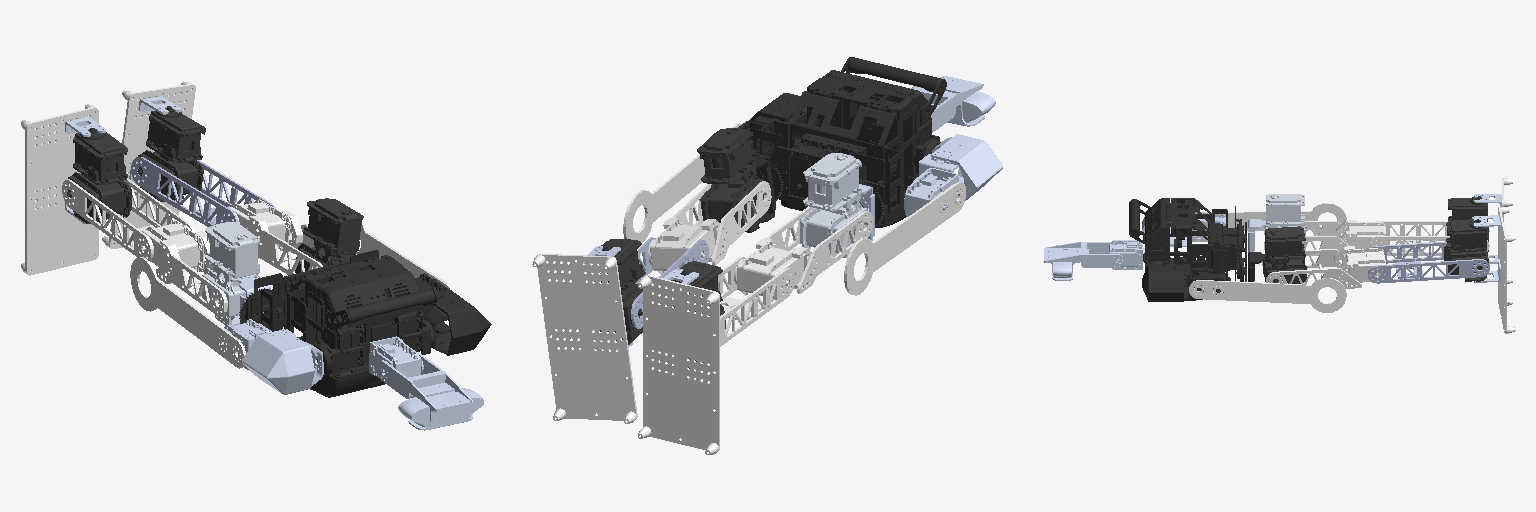
--- Facts derived from the render (not from the file) ---
The picture shows the robot from 3 angles, left to right: view 1: azimuth 30°, elevation 25°; view 2: azimuth 150°, elevation 25°; view 3: azimuth 270°, elevation 25°; orthographic projection.
Model zjudancerURDF with 21 links and 20 joints (18 revolute, 2 fixed), rooted at base_link, posed all joints at 0.
Links seen in each view (by area): view 1: base_link, r_sole, RShoulder, HeadPitch, RHipPitch, RAnklePitch, LAnklePitch, RHipRoll, LKnee, RHand, RKnee, LHipPitch (+7 smaller); view 2: base_link, l_sole, r_sole, RHipPitch, LHipPitch, RHipRoll, RShoulder, LHipRoll, RHand, RKnee, LHand, HeadPitch (+5 smaller); view 3: base_link, LHand, LKnee, LHipPitch, LShoulder, LHipRoll, HeadPitch, RHipPitch, LAnklePitch, RKnee, RHipRoll, l_sole (+3 smaller).
Boxes of the visible links, x1,y1,x2,y2 form: base_link: [239, 250, 437, 397]; r_sole: [21, 104, 98, 275]; RShoulder: [220, 319, 323, 394]; HeadPitch: [380, 353, 483, 430]; RHipPitch: [141, 220, 261, 316]; RAnklePitch: [67, 128, 131, 223]; LAnklePitch: [137, 106, 205, 201]; RHipRoll: [202, 222, 259, 325]; LKnee: [131, 157, 275, 226]; RHand: [130, 257, 245, 368]; RKnee: [62, 178, 195, 261]; LHipPitch: [226, 199, 356, 274]; base_link: [752, 57, 946, 227]; l_sole: [532, 254, 637, 423]; r_sole: [638, 275, 719, 454]; RHipPitch: [734, 206, 872, 301]; LHipPitch: [648, 181, 771, 274]; RHipRoll: [800, 153, 866, 257]; RShoulder: [904, 134, 1002, 216]; LHipRoll: [697, 128, 763, 230]; RHand: [844, 182, 965, 295]; RKnee: [715, 257, 794, 346]; LHand: [623, 123, 741, 242]; HeadPitch: [911, 76, 995, 132]; base_link: [1129, 198, 1246, 300]; LHand: [1189, 278, 1346, 312]; LKnee: [1367, 242, 1489, 283]; LHipPitch: [1262, 246, 1386, 288]; LShoulder: [1142, 264, 1225, 301]; LHipRoll: [1263, 226, 1306, 283]; HeadPitch: [1044, 242, 1120, 280]; RHipPitch: [1264, 220, 1385, 255]; LAnklePitch: [1444, 219, 1488, 281]; RKnee: [1366, 221, 1489, 255]; RHipRoll: [1265, 194, 1305, 249]; l_sole: [1498, 207, 1515, 333].
Bounding box of the posed robot: 0.2805 × 0.7336 × 0.1907 m (x, y, z).
21 mesh visuals loaded from 21 distinct referenced files (21 binary STL).

robot.urdf — zjudancerURDF:
<robot
  name="zjudancerURDF">
  <link
    name="base_link">
    <inertial>
      <origin
        xyz="-0.0208293262310362 0.0080090301997606 -0.00911554239783212"
        rpy="0 0 0" />
      <mass
        value="0.540875998303045" />
      <inertia
        ixx="0.00198815257681203"
        ixy="3.61383751067365E-06"
        ixz="-5.13308899389049E-06"
        iyy="0.00127845415804462"
        iyz="0.000133026039099894"
        izz="0.00224195983699153" />
    </inertial>
    <visual>
      <origin
        xyz="0 0 0"
        rpy="0 0 0" />
      <geometry>
        <mesh
          filename="package://zjudancerURDF/meshes/base_link.stl" />
      </geometry>
      <material
        name="">
        <color
          rgba="0.250980392156863 0.250980392156863 0.250980392156863 1" />
      </material>
    </visual>
    <collision>
      <origin
        xyz="0 0 0"
        rpy="0 0 0" />
      <geometry>
        <mesh
          filename="package://zjudancerURDF/meshes/base_link.stl" />
      </geometry>
    </collision>
  </link>
  <link
    name="HeadYaw">
    <inertial>
      <origin
        xyz="-0.000345179135047391 -0.0267172826783171 -1.25612328837066E-08"
        rpy="0 0 0" />
      <mass
        value="0.0579542771191171" />
      <inertia
        ixx="1.94910114823733E-05"
        ixy="-3.84202176913727E-07"
        ixz="-2.1788375664448E-12"
        iyy="1.1489962681525E-05"
        iyz="1.52314344728411E-11"
        izz="2.30934707566597E-05" />
    </inertial>
    <visual>
      <origin
        xyz="0 0 0"
        rpy="0 0 0" />
      <geometry>
        <mesh
          filename="package://zjudancerURDF/meshes/HeadYaw.stl" />
      </geometry>
      <material
        name="">
        <color
          rgba="0.866666666666667 0.909803921568627 1 1" />
      </material>
    </visual>
    <collision>
      <origin
        xyz="0 0 0"
        rpy="0 0 0" />
      <geometry>
        <mesh
          filename="package://zjudancerURDF/meshes/HeadYaw.stl" />
      </geometry>
    </collision>
  </link>
  <joint
    name="HeadYaw"
    type="revolute">
    <origin
      xyz="-0.021584 -0.05865 -0.020408"
      rpy="3.1416 -0.02764 -3.1416" />
    <parent
      link="base_link" />
    <child
      link="HeadYaw" />
    <axis
      xyz="0 -1 0" />
    <limit
      lower="-1.7"
      upper="1.7"
      effort="0"
      velocity="0" />
  </joint>
  <link
    name="HeadPitch">
    <inertial>
      <origin
        xyz="0.000232827325365077 0.0743784701197822 0.00629122846704461"
        rpy="0 0 0" />
      <mass
        value="0.127630752753862" />
      <inertia
        ixx="9.58759288594825E-05"
        ixy="2.7068878296526E-08"
        ixz="-1.46120279992447E-08"
        iyy="6.37124130380846E-05"
        iyz="-1.39032063600842E-05"
        izz="0.000137696804225242" />
    </inertial>
    <visual>
      <origin
        xyz="0 0 0"
        rpy="0 0 0" />
      <geometry>
        <mesh
          filename="package://zjudancerURDF/meshes/HeadPitch.stl" />
      </geometry>
      <material
        name="">
        <color
          rgba="0.866666666666667 0.909803921568627 1 1" />
      </material>
    </visual>
    <collision>
      <origin
        xyz="0 0 0"
        rpy="0 0 0" />
      <geometry>
        <mesh
          filename="package://zjudancerURDF/meshes/HeadPitch.stl" />
      </geometry>
    </collision>
  </link>
  <joint
    name="HeadPitch"
    type="revolute">
    <origin
      xyz="0 -0.037 0"
      rpy="2.3666E-30 -6.9389E-16 3.1416" />
    <parent
      link="HeadYaw" />
    <child
      link="HeadPitch" />
    <axis
      xyz="1 0 0" />
    <limit
      lower="-1.7"
      upper="1.7"
      effort="0"
      velocity="0" />
  </joint>
  <link
    name="RShoulder">
    <inertial>
      <origin
        xyz="-0.0015216 0.042377 0.039565"
        rpy="0 0 0" />
      <mass
        value="0.11888" />
      <inertia
        ixx="0.00020971"
        ixy="6.5772E-06"
        ixz="5.8253E-08"
        iyy="5.6251E-05"
        iyz="-5.8281E-06"
        izz="0.0002001" />
    </inertial>
    <visual>
      <origin
        xyz="0 0 0"
        rpy="0 0 0" />
      <geometry>
        <mesh
          filename="package://zjudancerURDF/meshes/RShoulder.stl" />
      </geometry>
      <material
        name="">
        <color
          rgba="0.86667 0.9098 1 1" />
      </material>
    </visual>
    <collision>
      <origin
        xyz="0 0 0"
        rpy="0 0 0" />
      <geometry>
        <mesh
          filename="package://zjudancerURDF/meshes/RShoulder.stl" />
      </geometry>
    </collision>
  </link>
  <joint
    name="RShoulder"
    type="revolute">
    <origin
      xyz="-0.090484 -0.0399 -0.020408"
      rpy="3.1416 -1.5708 3.1416" />
    <parent
      link="base_link" />
    <child
      link="RShoulder" />
    <axis
      xyz="0 0 -1" />
    <limit
      lower="-1.7"
      upper="1.7"
      effort="0"
      velocity="0" />
  </joint>
  <link
    name="RHand">
    <inertial>
      <origin
        xyz="0.0833257163351804 0.000902994547307041 -0.00926588213450355"
        rpy="0 0 0" />
      <mass
        value="0.0470941776045623" />
      <inertia
        ixx="6.60989693567866E-06"
        ixy="-2.42325546400845E-06"
        ixz="1.32651560598224E-20"
        iyy="0.000230194618228517"
        iyz="-3.82259903079613E-22"
        izz="0.000236733873897789" />
    </inertial>
    <visual>
      <origin
        xyz="0 0 0"
        rpy="0 0 0" />
      <geometry>
        <mesh
          filename="package://zjudancerURDF/meshes/RHand.stl" />
      </geometry>
      <material
        name="">
        <color
          rgba="1 1 1 1" />
      </material>
    </visual>
    <collision>
      <origin
        xyz="0 0 0"
        rpy="0 0 0" />
      <geometry>
        <mesh
          filename="package://zjudancerURDF/meshes/RHand.stl" />
      </geometry>
    </collision>
  </link>
  <joint
    name="RHand"
    type="revolute">
    <origin
      xyz="-0.0037735 0.096126 0.052584"
      rpy="3.1416 -7.5804E-16 1.5708" />
    <parent
      link="RShoulder" />
    <child
      link="RHand" />
    <axis
      xyz="0 0 1" />
    <limit
      lower="-1.7"
      upper="1.7"
      effort="0"
      velocity="0" />
  </joint>
  <link
    name="LShoulder">
    <inertial>
      <origin
        xyz="0.00014187 0.042405 0.039565"
        rpy="0 0 0" />
      <mass
        value="0.11888" />
      <inertia
        ixx="0.00020999"
        ixy="5.4215E-07"
        ixz="-1.704E-07"
        iyy="5.5972E-05"
        iyz="-5.8259E-06"
        izz="0.0002001" />
    </inertial>
    <visual>
      <origin
        xyz="0 0 0"
        rpy="0 0 0" />
      <geometry>
        <mesh
          filename="package://zjudancerURDF/meshes/LShoulder.stl" />
      </geometry>
      <material
        name="">
        <color
          rgba="0.25098 0.25098 0.25098 1" />
      </material>
    </visual>
    <collision>
      <origin
        xyz="0 0 0"
        rpy="0 0 0" />
      <geometry>
        <mesh
          filename="package://zjudancerURDF/meshes/LShoulder.stl" />
      </geometry>
    </collision>
  </link>
  <joint
    name="LShoulder"
    type="revolute">
    <origin
      xyz="0.047316 -0.0399 -0.020408"
      rpy="0 1.5708 0" />
    <parent
      link="base_link" />
    <child
      link="LShoulder" />
    <axis
      xyz="0 0 1" />
    <limit
      lower="-1.7"
      upper="1.7"
      effort="0"
      velocity="0" />
  </joint>
  <link
    name="LHand">
    <inertial>
      <origin
        xyz="-0.0832261685834999 -0.00417076309975184 -0.00926588213450361"
        rpy="0 0 0" />
      <mass
        value="0.0470941776045622" />
      <inertia
        ixx="7.14386591152994E-06"
        ixy="-1.11791926730606E-05"
        ixz="7.16954742566721E-21"
        iyy="0.000229660649252665"
        iyz="6.57698421551188E-22"
        izz="0.000236733873897789" />
    </inertial>
    <visual>
      <origin
        xyz="0 0 0"
        rpy="0 0 0" />
      <geometry>
        <mesh
          filename="package://zjudancerURDF/meshes/LHand.stl" />
      </geometry>
      <material
        name="">
        <color
          rgba="1 1 1 1" />
      </material>
    </visual>
    <collision>
      <origin
        xyz="0 0 0"
        rpy="0 0 0" />
      <geometry>
        <mesh
          filename="package://zjudancerURDF/meshes/LHand.stl" />
      </geometry>
    </collision>
  </link>
  <joint
    name="LHand"
    type="revolute">
    <origin
      xyz="0 0.0962 0.052584"
      rpy="-3.1416 1.7738E-16 -1.5708" />
    <parent
      link="LShoulder" />
    <child
      link="LHand" />
    <axis
      xyz="0 0 -1" />
    <limit
      lower="-1.7"
      upper="1.7"
      effort="0"
      velocity="0" />
  </joint>
  <link
    name="RHipYaw">
    <inertial>
      <origin
        xyz="0.00016521 -0.011755 -0.0050637"
        rpy="0 0 0" />
      <mass
        value="0.031461" />
      <inertia
        ixx="2.3834E-05"
        ixy="-1.1654E-08"
        ixz="-8.5111E-10"
        iyy="2.1651E-05"
        iyz="5.4121E-08"
        izz="9.4522E-06" />
    </inertial>
    <visual>
      <origin
        xyz="0 0 0"
        rpy="0 0 0" />
      <geometry>
        <mesh
          filename="package://zjudancerURDF/meshes/RHipYaw.stl" />
      </geometry>
      <material
        name="">
        <color
          rgba="0.86667 0.9098 1 1" />
      </material>
    </visual>
    <collision>
      <origin
        xyz="0 0 0"
        rpy="0 0 0" />
      <geometry>
        <mesh
          filename="package://zjudancerURDF/meshes/RHipYaw.stl" />
      </geometry>
    </collision>
  </link>
  <joint
    name="RHipYaw"
    type="revolute">
    <origin
      xyz="-0.081684 0.1026 -0.020354"
      rpy="6.123E-17 -2.7756E-15 3.1416" />
    <parent
      link="base_link" />
    <child
      link="RHipYaw" />
    <axis
      xyz="0 1 0" />
    <limit
      lower="-1.7"
      upper="1.7"
      effort="0"
      velocity="0" />
  </joint>
  <link
    name="RHipRoll">
    <inertial>
      <origin
        xyz="-0.00411310755183356 -0.0126360407831169 -0.0481640865463906"
        rpy="0 0 0" />
      <mass
        value="0.187310637380507" />
      <inertia
        ixx="0.000205637944340632"
        ixy="-5.76817498493574E-06"
        ixz="-3.57815869953642E-06"
        iyy="0.000191205571193831"
        iyz="-1.00837420891128E-05"
        izz="7.8782502294624E-05" />
    </inertial>
    <visual>
      <origin
        xyz="0 0 0"
        rpy="0 0 0" />
      <geometry>
        <mesh
          filename="package://zjudancerURDF/meshes/RHipRoll.stl" />
      </geometry>
      <material
        name="">
        <color
          rgba="0.882352941176471 0.913725490196078 0.964705882352941 1" />
      </material>
    </visual>
    <collision>
      <origin
        xyz="0 0 0"
        rpy="0 0 0" />
      <geometry>
        <mesh
          filename="package://zjudancerURDF/meshes/RHipRoll.stl" />
      </geometry>
    </collision>
  </link>
  <joint
    name="RHipRoll"
    type="revolute">
    <origin
      xyz="0 -0.04 -0.0315"
      rpy="-3.1416 -2.6346E-15 2.8215" />
    <parent
      link="RHipYaw" />
    <child
      link="RHipRoll" />
    <axis
      xyz="0 0 -1" />
    <limit
      lower="-1.7"
      upper="1.7"
      effort="0"
      velocity="0" />
  </joint>
  <link
    name="RHipPitch">
    <inertial>
      <origin
        xyz="-0.000539777794404738 -0.119511170659045 0.0289145644707088"
        rpy="0 0 0" />
      <mass
        value="0.157055119718314" />
      <inertia
        ixx="0.000354792475912493"
        ixy="1.00450261055402E-06"
        ixz="7.19523224998815E-09"
        iyy="7.65492849391043E-05"
        iyz="-6.80650359950641E-07"
        izz="0.000310437387545802" />
    </inertial>
    <visual>
      <origin
        xyz="0 0 0"
        rpy="0 0 0" />
      <geometry>
        <mesh
          filename="package://zjudancerURDF/meshes/RHipPitch.stl" />
      </geometry>
      <material
        name="">
        <color
          rgba="1 1 1 1" />
      </material>
    </visual>
    <collision>
      <origin
        xyz="0 0 0"
        rpy="0 0 0" />
      <geometry>
        <mesh
          filename="package://zjudancerURDF/meshes/RHipPitch.stl" />
      </geometry>
    </collision>
  </link>
  <joint
    name="RHipPitch"
    type="revolute">
    <origin
      xyz="-0.027527 0.0091246 -0.0315"
      rpy="0.32008 1.5708 0" />
    <parent
      link="RHipRoll" />
    <child
      link="RHipPitch" />
    <axis
      xyz="0 0 1" />
    <limit
      lower="-1.7"
      upper="1.7"
      effort="0"
      velocity="0" />
  </joint>
  <link
    name="RKnee">
    <inertial>
      <origin
        xyz="-0.00137487246241106 -0.0785718139027019 0.0289999999999999"
        rpy="0 0 0" />
      <mass
        value="0.0530853439931548" />
      <inertia
        ixx="0.000203527846057276"
        ixy="1.90286639712834E-06"
        ixz="-3.20449384208379E-20"
        iyy="4.37203773624098E-05"
        iyz="2.38327675182106E-19"
        izz="0.000171534429178642" />
    </inertial>
    <visual>
      <origin
        xyz="0 0 0"
        rpy="0 0 0" />
      <geometry>
        <mesh
          filename="package://zjudancerURDF/meshes/RKnee.stl" />
      </geometry>
      <material
        name="">
        <color
          rgba="1 1 1 1" />
      </material>
    </visual>
    <collision>
      <origin
        xyz="0 0 0"
        rpy="0 0 0" />
      <geometry>
        <mesh
          filename="package://zjudancerURDF/meshes/RKnee.stl" />
      </geometry>
    </collision>
  </link>
  <joint
    name="RKnee"
    type="revolute">
    <origin
      xyz="0 -0.16 0"
      rpy="1.3878E-15 -1.3878E-15 1.9259E-30" />
    <parent
      link="RHipPitch" />
    <child
      link="RKnee" />
    <axis
      xyz="0 0 1" />
    <limit
      lower="-1.7"
      upper="1.7"
      effort="0"
      velocity="0" />
  </joint>
  <link
    name="RAnklePitch">
    <inertial>
      <origin
        xyz="0.016089 -0.022652 0.013431"
        rpy="0 0 0" />
      <mass
        value="0.18054" />
      <inertia
        ixx="7.5559E-05"
        ixy="2.0676E-06"
        ixz="-5.0596E-06"
        iyy="0.00018067"
        iyz="6.3424E-07"
        izz="0.00015996" />
    </inertial>
    <visual>
      <origin
        xyz="0 0 0"
        rpy="0 0 0" />
      <geometry>
        <mesh
          filename="package://zjudancerURDF/meshes/RAnklePitch.stl" />
      </geometry>
      <material
        name="">
        <color
          rgba="0.29412 0.29412 0.29412 1" />
      </material>
    </visual>
    <collision>
      <origin
        xyz="0 0 0"
        rpy="0 0 0" />
      <geometry>
        <mesh
          filename="package://zjudancerURDF/meshes/RAnklePitch.stl" />
      </geometry>
    </collision>
  </link>
  <joint
    name="RAnklePitch"
    type="revolute">
    <origin
      xyz="0 -0.16 0.006"
      rpy="-1.5708 7.8886E-31 0" />
    <parent
      link="RKnee" />
    <child
      link="RAnklePitch" />
    <axis
      xyz="0 -1 0" />
    <limit
      lower="-1.7"
      upper="1.7"
      effort="0"
      velocity="0" />
  </joint>
  <link
    name="RAnkleRoll">
    <inertial>
      <origin
        xyz="8.3267E-17 -0.02182 0.049567"
        rpy="0 0 0" />
      <mass
        value="0.019109" />
      <inertia
        ixx="4.7887E-05"
        ixy="5.6632E-21"
        ixz="-1.0583E-20"
        iyy="4.5961E-05"
        iyz="-7.8252E-07"
        izz="4.7707E-06" />
    </inertial>
    <visual>
      <origin
        xyz="0 0 0"
        rpy="0 0 0" />
      <geometry>
        <mesh
          filename="package://zjudancerURDF/meshes/RAnkleRoll.stl" />
      </geometry>
      <material
        name="">
        <color
          rgba="0.86667 0.9098 1 1" />
      </material>
    </visual>
    <collision>
      <origin
        xyz="0 0 0"
        rpy="0 0 0" />
      <geometry>
        <mesh
          filename="package://zjudancerURDF/meshes/RAnkleRoll.stl" />
      </geometry>
    </collision>
  </link>
  <joint
    name="RAnkleRoll"
    type="revolute">
    <origin
      xyz="-0.0365 -0.023 0"
      rpy="1.5708 -1.4444E-30 1.5708" />
    <parent
      link="RAnklePitch" />
    <child
      link="RAnkleRoll" />
    <axis
      xyz="0 0 1" />
    <limit
      lower="-1.7"
      upper="1.7"
      effort="0"
      velocity="0" />
  </joint>
  <link
    name="r_sole">
    <inertial>
      <origin
        xyz="-1.3878E-17 0.00093248 0.0012291"
        rpy="0 0 0" />
      <mass
        value="0.098145" />
      <inertia
        ixx="0.00028349"
        ixy="4.2827E-20"
        ixz="-1.537E-19"
        iyy="6.9882E-05"
        iyz="-2.4788E-08"
        izz="0.00035276" />
    </inertial>
    <visual>
      <origin
        xyz="0 0 0"
        rpy="0 0 0" />
      <geometry>
        <mesh
          filename="package://zjudancerURDF/meshes/r_sole.stl" />
      </geometry>
      <material
        name="">
        <color
          rgba="1 1 1 1" />
      </material>
    </visual>
    <collision>
      <origin
        xyz="0 0 0"
        rpy="0 0 0" />
      <geometry>
        <mesh
          filename="package://zjudancerURDF/meshes/r_sole.stl" />
      </geometry>
    </collision>
  </link>
  <joint
    name="r_sole"
    type="fixed">
    <origin
      xyz="0.017 -0.038 0.0225"
      rpy="-1.5708 6.9389E-16 -1.9259E-30" />
    <parent
      link="RAnkleRoll" />
    <child
      link="r_sole" />
    <axis
      xyz="0 0 0" />
  </joint>
  <link
    name="LHipYaw">
    <inertial>
      <origin
        xyz="-0.020829 0.008009 -0.0091155"
        rpy="0 0 0" />
      <mass
        value="0.54088" />
      <inertia
        ixx="0.0019882"
        ixy="3.6138E-06"
        ixz="-5.1331E-06"
        iyy="0.0012785"
        iyz="0.00013303"
        izz="0.002242" />
    </inertial>
    <visual>
      <origin
        xyz="0 0 0"
        rpy="0 0 0" />
      <geometry>
        <mesh
          filename="package://zjudancerURDF/meshes/LHipYaw.stl" />
      </geometry>
      <material
        name="">
        <color
          rgba="0.25098 0.25098 0.25098 1" />
      </material>
    </visual>
    <collision>
      <origin
        xyz="0 0 0"
        rpy="0 0 0" />
      <geometry>
        <mesh
          filename="package://zjudancerURDF/meshes/LHipYaw.stl" />
      </geometry>
    </collision>
  </link>
  <joint
    name="LHipYaw"
    type="revolute">
    <origin
      xyz="0.038516 0.1026 -0.020354"
      rpy="-2.8869E-16 -0.14372 -3.1416" />
    <parent
      link="base_link" />
    <child
      link="LHipYaw" />
    <axis
      xyz="0 1 0" />
    <limit
      lower="-1.7"
      upper="1.7"
      effort="0"
      velocity="0" />
  </joint>
  <link
    name="LHipRoll">
    <inertial>
      <origin
        xyz="0.016909 -0.00058218 0.012978"
        rpy="0 0 0" />
      <mass
        value="0.1916" />
      <inertia
        ixx="7.9917E-05"
        ixy="7.33E-07"
        ixz="-1.0063E-05"
        iyy="0.00020902"
        iyz="1.273E-06"
        izz="0.00018997" />
    </inertial>
    <visual>
      <origin
        xyz="0 0 0"
        rpy="0 0 0" />
      <geometry>
        <mesh
          filename="package://zjudancerURDF/meshes/LHipRoll.stl" />
      </geometry>
      <material
        name="">
        <color
          rgba="0.29412 0.29412 0.29412 1" />
      </material>
    </visual>
    <collision>
      <origin
        xyz="0 0 0"
        rpy="0 0 0" />
      <geometry>
        <mesh
          filename="package://zjudancerURDF/meshes/LHipRoll.stl" />
      </geometry>
    </collision>
  </link>
  <joint
    name="LHipRoll"
    type="revolute">
    <origin
      xyz="0 -0.04 0"
      rpy="1.6335 -1.5708 0" />
    <parent
      link="LHipYaw" />
    <child
      link="LHipRoll" />
    <axis
      xyz="1 0 0" />
    <limit
      lower="-1.7"
      upper="1.7"
      effort="0"
      velocity="0" />
  </joint>
  <link
    name="LHipPitch">
    <inertial>
      <origin
        xyz="-0.11951 -0.00075639 8.5435E-05"
        rpy="0 0 0" />
      <mass
        value="0.15706" />
      <inertia
        ixx="7.6547E-05"
        ixy="5.0018E-07"
        ixz="6.8066E-07"
        iyy="0.0003548"
        iyz="-5.9615E-09"
        izz="0.00031044" />
    </inertial>
    <visual>
      <origin
        xyz="0 0 0"
        rpy="0 0 0" />
      <geometry>
        <mesh
          filename="package://zjudancerURDF/meshes/LHipPitch.stl" />
      </geometry>
      <material
        name="">
        <color
          rgba="1 1 1 1" />
      </material>
    </visual>
    <collision>
      <origin
        xyz="0 0 0"
        rpy="0 0 0" />
      <geometry>
        <mesh
          filename="package://zjudancerURDF/meshes/LHipPitch.stl" />
      </geometry>
    </collision>
  </link>
  <joint
    name="LHipPitch"
    type="revolute">
    <origin
      xyz="0 0 0"
      rpy="-3.1055 1.5205 1.6069" />
    <parent
      link="LHipRoll" />
    <child
      link="LHipPitch" />
    <axis
      xyz="0 0 -1" />
    <limit
      lower="-1.7"
      upper="1.7"
      effort="0"
      velocity="0" />
  </joint>
  <link
    name="LKnee">
    <inertial>
      <origin
        xyz="0.078569 -0.0015173 -0.017149"
        rpy="0 0 0" />
      <mass
        value="0.053085" />
      <inertia
        ixx="4.3714E-05"
        ixy="-1.6132E-06"
        ixz="-2.8799E-20"
        iyy="0.00020353"
        iyz="-8.611E-22"
        izz="0.00017153" />
    </inertial>
    <visual>
      <origin
        xyz="0 0 0"
        rpy="0 0 0" />
      <geometry>
        <mesh
          filename="package://zjudancerURDF/meshes/LKnee.stl" />
      </geometry>
      <material
        name="">
        <color
          rgba="0.79216 0.81961 0.93333 1" />
      </material>
    </visual>
    <collision>
      <origin
        xyz="0 0 0"
        rpy="0 0 0" />
      <geometry>
        <mesh
          filename="package://zjudancerURDF/meshes/LKnee.stl" />
      </geometry>
    </collision>
  </link>
  <joint
    name="LKnee"
    type="revolute">
    <origin
      xyz="-0.16 -0.00029 -0.017149"
      rpy="3.1416 -2.8276E-16 -3.1416" />
    <parent
      link="LHipPitch" />
    <child
      link="LKnee" />
    <axis
      xyz="0 0 1" />
    <limit
      lower="-1.7"
      upper="1.7"
      effort="0"
      velocity="0" />
  </joint>
  <link
    name="LAnklePitch">
    <inertial>
      <origin
        xyz="-0.013402 0.016113 -0.017497"
        rpy="0 0 0" />
      <mass
        value="0.18054" />
      <inertia
        ixx="0.00015998"
        ixy="4.9066E-06"
        ixz="6.3049E-07"
        iyy="7.5541E-05"
        iyz="-2.0687E-06"
        izz="0.00018067" />
    </inertial>
    <visual>
      <origin
        xyz="0 0 0"
        rpy="0 0 0" />
      <geometry>
        <mesh
          filename="package://zjudancerURDF/meshes/LAnklePitch.stl" />
      </geometry>
      <material
        name="">
        <color
          rgba="0.29412 0.29412 0.29412 1" />
      </material>
    </visual>
    <collision>
      <origin
        xyz="0 0 0"
        rpy="0 0 0" />
      <geometry>
        <mesh
          filename="package://zjudancerURDF/meshes/LAnklePitch.stl" />
      </geometry>
    </collision>
  </link>
  <joint
    name="LAnklePitch"
    type="revolute">
    <origin
      xyz="0.16 -0.00029 0"
      rpy="1.7276E-17 0 0" />
    <parent
      link="LKnee" />
    <child
      link="LAnklePitch" />
    <axis
      xyz="0 0 1" />
    <limit
      lower="-1.7"
      upper="1.7"
      effort="0"
      velocity="0" />
  </joint>
  <link
    name="LAnkleRoll">
    <inertial>
      <origin
        xyz="0.021786 -0.018723 2.7756E-17"
        rpy="0 0 0" />
      <mass
        value="0.019109" />
      <inertia
        ixx="4.5964E-05"
        ixy="7.0786E-07"
        ixz="5.9822E-21"
        iyy="4.768E-06"
        iyz="4.8E-21"
        izz="4.7887E-05" />
    </inertial>
    <visual>
      <origin
        xyz="0 0 0"
        rpy="0 0 0" />
      <geometry>
        <mesh
          filename="package://zjudancerURDF/meshes/LAnkleRoll.stl" />
      </geometry>
      <material
        name="">
        <color
          rgba="0.86667 0.9098 1 1" />
      </material>
    </visual>
    <collision>
      <origin
        xyz="0 0 0"
        rpy="0 0 0" />
      <geometry>
        <mesh
          filename="package://zjudancerURDF/meshes/LAnkleRoll.stl" />
      </geometry>
    </collision>
  </link>
  <joint
    name="LAnkleRoll"
    type="revolute">
    <origin
      xyz="5.7548E-05 0.031751 -0.017149"
      rpy="1.7276E-17 0 0" />
    <parent
      link="LAnklePitch" />
    <child
      link="LAnkleRoll" />
    <axis
      xyz="0.0018125 1 0" />
    <limit
      lower="-1.7"
      upper="1.7"
      effort="0"
      velocity="0" />
  </joint>
  <link
    name="l_sole">
    <inertial>
      <origin
        xyz="0.039185 -0.084068 0.017218"
        rpy="0 0 0" />
      <mass
        value="0.098145" />
      <inertia
        ixx="0.00028366"
        ixy="1.2443E-09"
        ixz="-3.4731E-06"
        iyy="6.9882E-05"
        iyz="-2.4757E-08"
        izz="0.00035259" />
    </inertial>
    <visual>
      <origin
        xyz="0 0 0"
        rpy="0 0 0" />
      <geometry>
        <mesh
          filename="package://zjudancerURDF/meshes/l_sole.stl" />
      </geometry>
      <material
        name="">
        <color
          rgba="1 1 1 1" />
      </material>
    </visual>
    <collision>
      <origin
        xyz="0 0 0"
        rpy="0 0 0" />
      <geometry>
        <mesh
          filename="package://zjudancerURDF/meshes/l_sole.stl" />
      </geometry>
    </collision>
  </link>
  <joint
    name="l_sole"
    type="fixed">
    <origin
      xyz="0.051763 -0.13085 0.057"
      rpy="3.1416 1.5206 -0.0018125" />
    <parent
      link="LAnkleRoll" />
    <child
      link="l_sole" />
    <axis
      xyz="0 -1 0" />
  </joint>
</robot>
